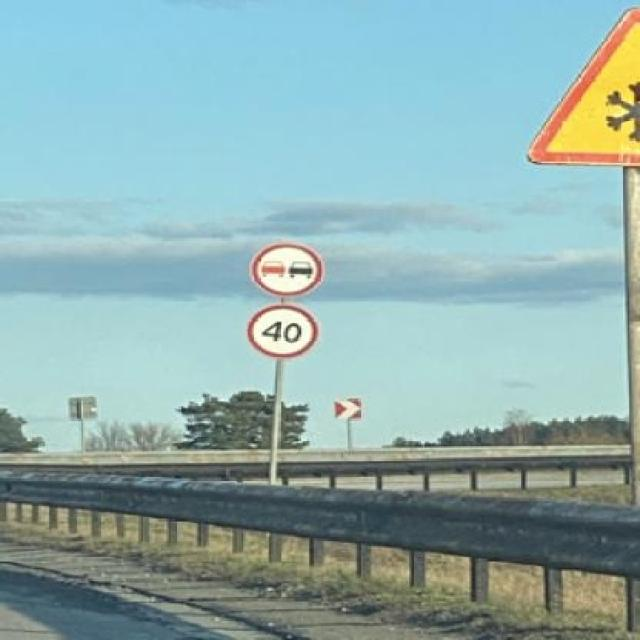forb_speed_over_40: (247, 303, 316, 360)
